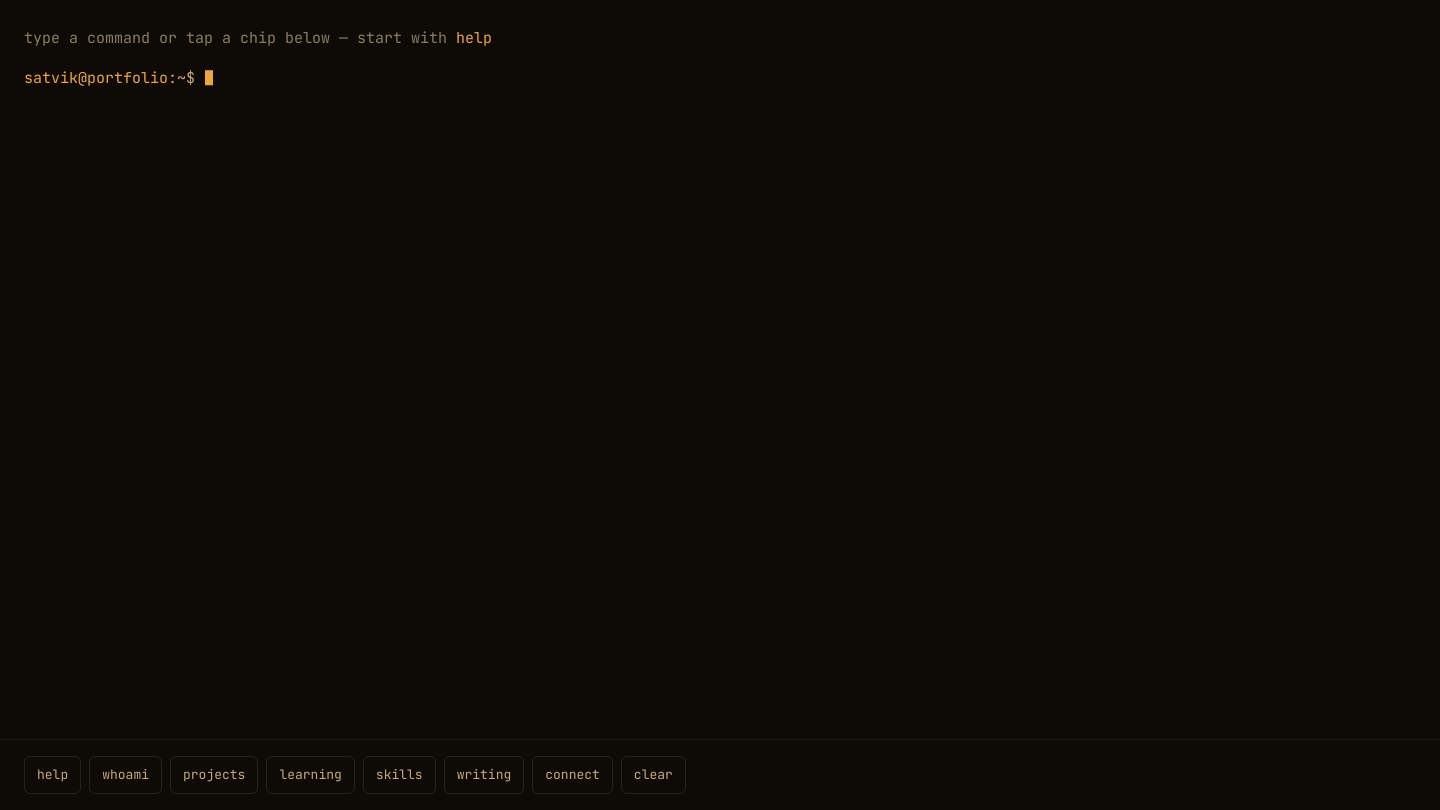
Shell › reports an unknown command
In the field: (810, 78) [203,64,1416,92], type "banana"
Then press Enter
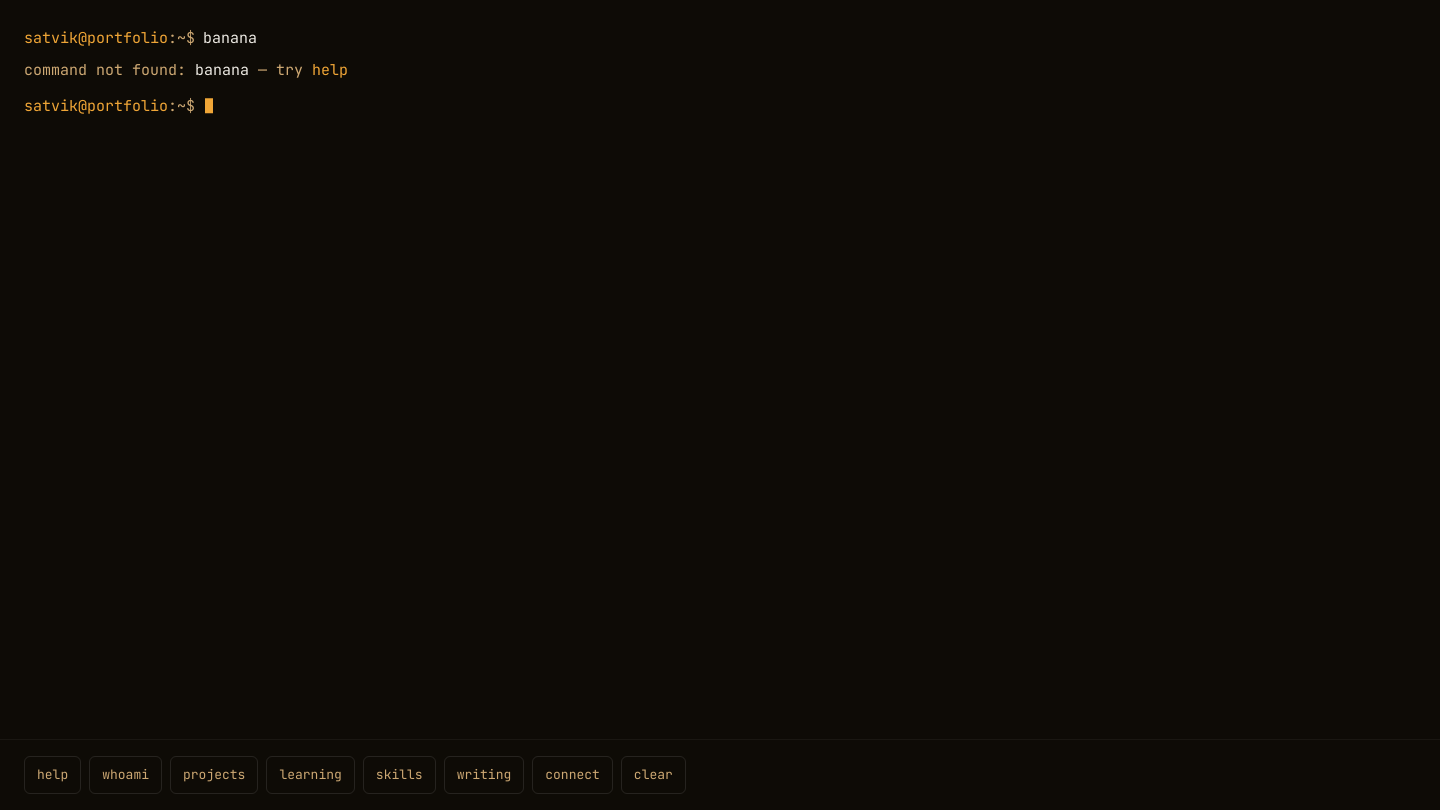
Result: the text "command not found: banana — try help" is shown at [24,60,348,80]
